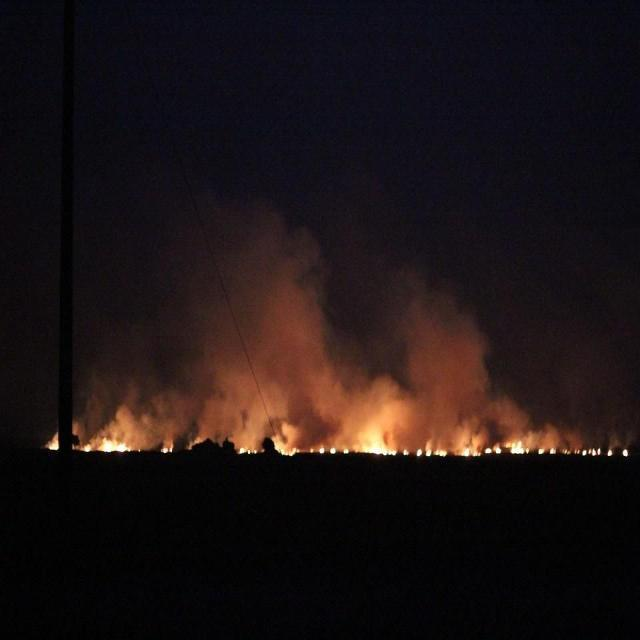fire: (30, 403, 630, 459)
